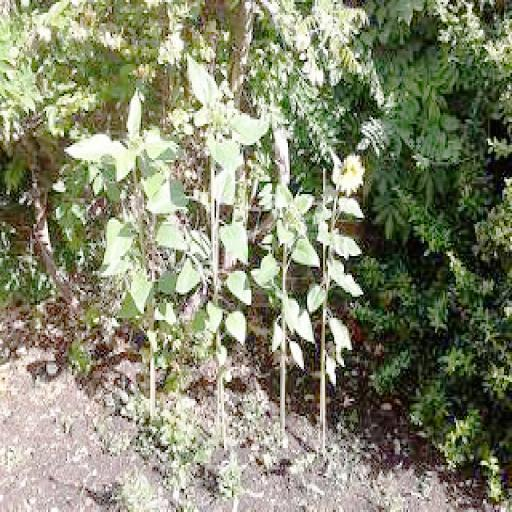sunflower: (344, 151, 365, 190)
